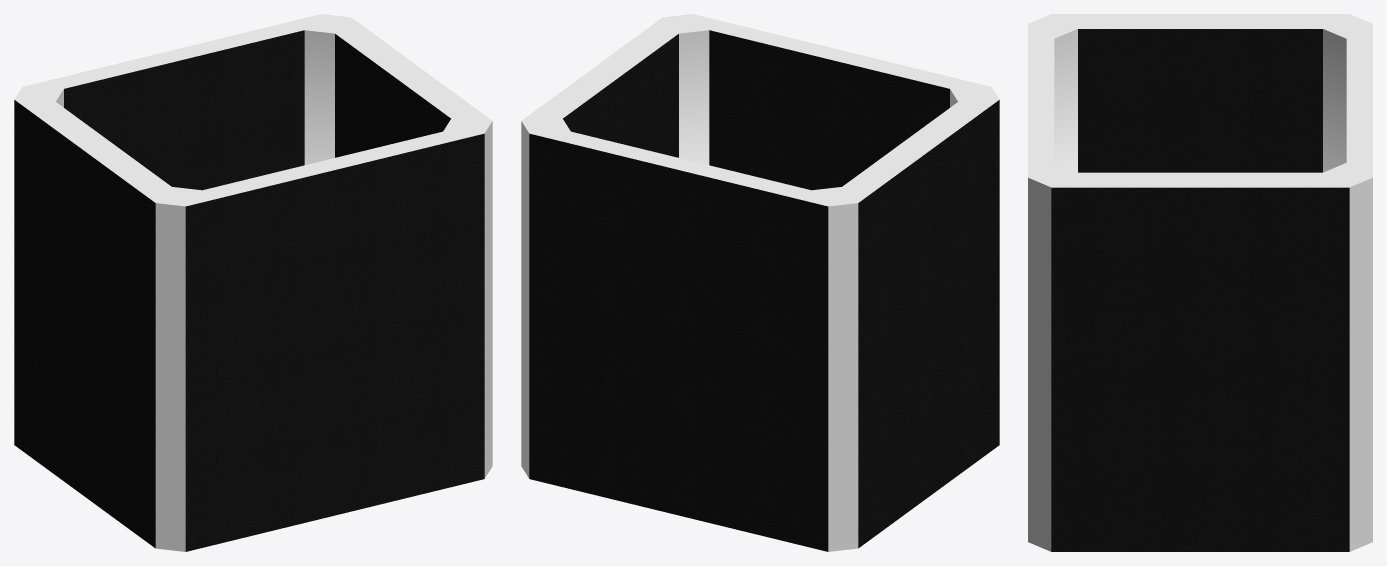
Rendered from DustBin.FBX.
The picture shows the model from 3 angles, left to right: view 1: azimuth 30°, elevation 25°; view 2: azimuth 150°, elevation 25°; view 3: azimuth 270°, elevation 25°; orthographic projection. The views are drawn at different scales.
Visible parts, largest first — view 1: DustBin; view 2: DustBin; view 3: DustBin.
Part boxes in pixels (x1=…): DustBin: x1=14, y1=14, x2=492, y2=551; DustBin: x1=521, y1=14, x2=999, y2=551; DustBin: x1=1028, y1=14, x2=1372, y2=551.
Size of the model in its own units: 28.13 by 27.56 by 23.62.
